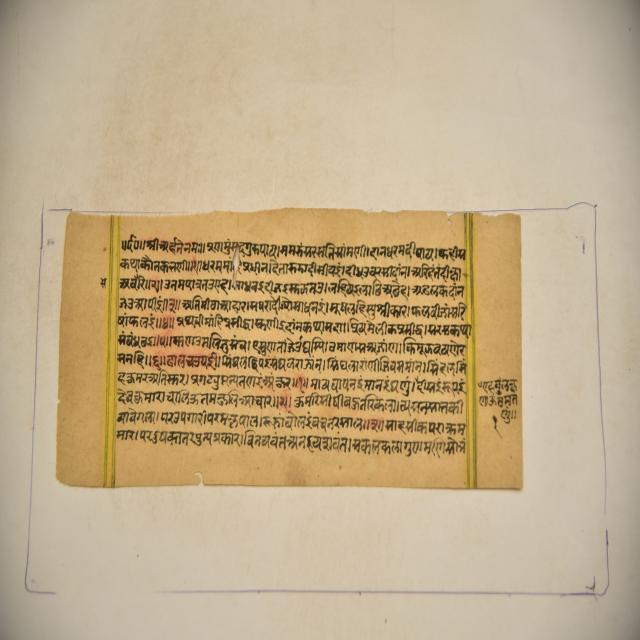text_paragraph: (58, 213, 522, 490)
